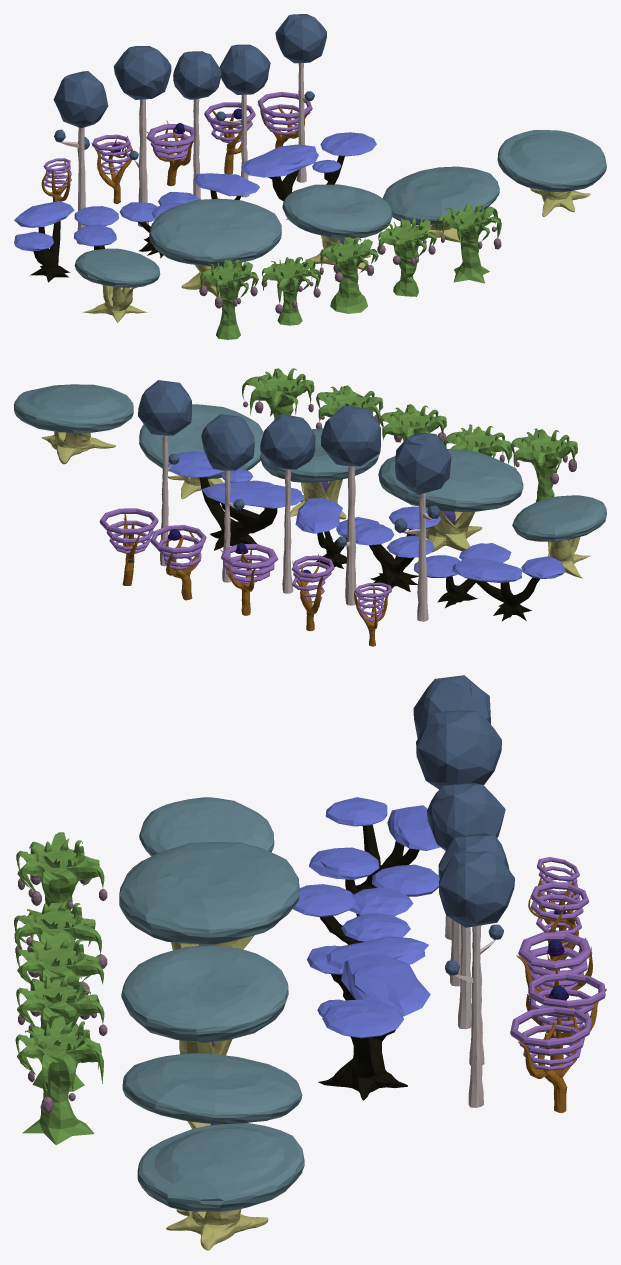
File: lowpoly_trees.fbx
3 views of the same model, one above another, from view 1: azimuth 30°, elevation 25°; view 2: azimuth 150°, elevation 25°; view 3: azimuth 270°, elevation 25° (orthographic). The views are drawn at different scales.
Visible parts, largest first — view 1: TallTreeTop (×5), pSphere8, pSphere6, pSphere4, pSphere3, pCylinder1 (×2), TallTreeTrunk (×5), pSphere10, pCylinder3, pCylinder2, pCylinder4, ShroomyTop (×2) (+16 smaller); view 2: TallTreeTop (×5), pSphere8, Trunk (×4), pSphere6, TallTreeTrunk (×5), pCylinder1 (×2), pSphere10, pSphere4, ShroomyTop (×2), pCylinder3, pSphere3, polySurface9 (+26 smaller); view 3: TallTreeTop (×5), pSphere8, pSphere3, pSphere6, pSphere4, pCylinder1 (×2), pCylinder3, pSphere10, ShroomyTop (×2), Trunk (×2), polySurface9, pCylinder4 (+16 smaller).
Boxes of the visible parts, box(x1,y1,x2,y2) form: TallTreeTop (×5): box(53, 14, 326, 128); pSphere8: box(149, 198, 281, 266); pSphere6: box(497, 130, 606, 192); pSphere4: box(382, 166, 499, 224); pSphere3: box(282, 184, 392, 238); pCylinder1 (×2): box(200, 257, 320, 339); TallTreeTrunk (×5): box(60, 63, 307, 244); pSphere10: box(74, 248, 160, 287); pCylinder3: box(436, 203, 501, 283); pCylinder2: box(320, 237, 378, 313); pCylinder4: box(378, 218, 436, 296); ShroomyTop (×2): box(194, 132, 376, 196); TallTreeTop (×5): box(138, 380, 451, 494); pSphere8: box(378, 449, 523, 511); Trunk (×4): box(199, 477, 539, 621); pSphere6: box(14, 384, 133, 432); TallTreeTrunk (×5): box(160, 435, 433, 621); pCylinder1 (×2): box(443, 424, 577, 501); pSphere10: box(512, 495, 606, 541); pSphere4: box(139, 404, 263, 478); ShroomyTop (×2): box(168, 451, 342, 533); pCylinder3: box(242, 368, 314, 419); pSphere3: box(260, 428, 379, 482); polySurface9: box(202, 480, 303, 508); TallTreeTop (×5): box(413, 675, 514, 927); pSphere8: box(119, 842, 299, 944); pSphere3: box(121, 945, 288, 1042); pSphere6: box(137, 1123, 304, 1211); pSphere4: box(122, 1053, 302, 1124); pCylinder1 (×2): box(14, 832, 104, 953); pCylinder3: box(15, 1016, 103, 1145); pSphere10: box(139, 797, 274, 856); ShroomyTop (×2): box(322, 936, 428, 1038); Trunk (×2): box(318, 824, 419, 1100); polySurface9: box(341, 954, 430, 1016); pCylinder4: box(16, 973, 104, 1091).
Bounding box in the file's own units: 113 × 35.91 × 70.8.
